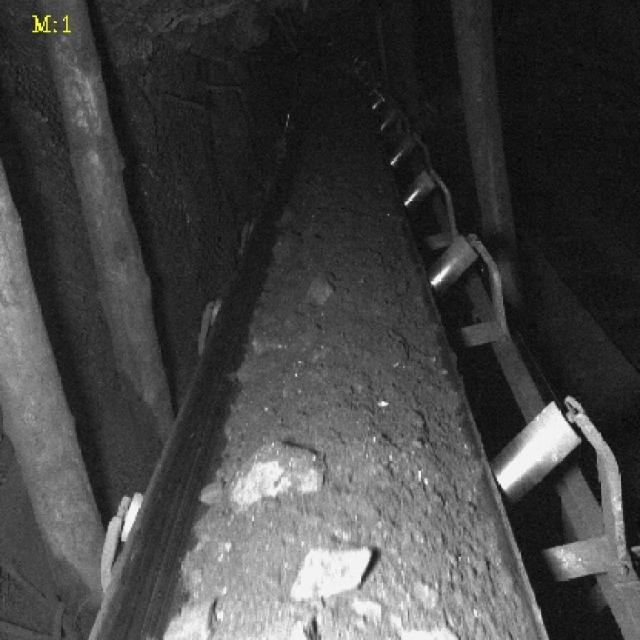large_sized_coal: (234, 442, 323, 502), (291, 544, 374, 594), (168, 592, 220, 640), (304, 271, 338, 312)
